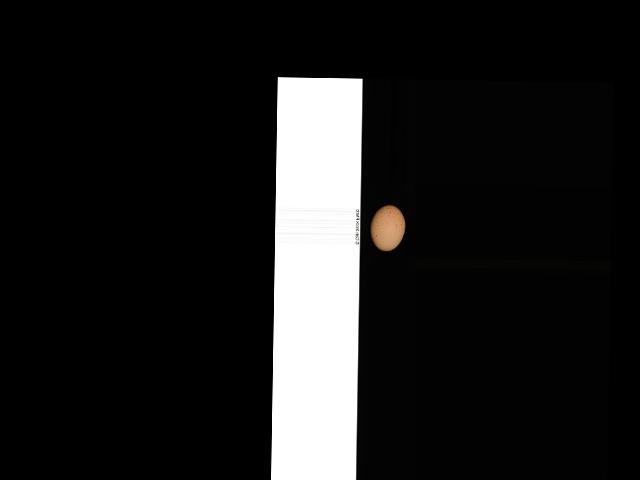egg: (369, 204, 405, 251)
